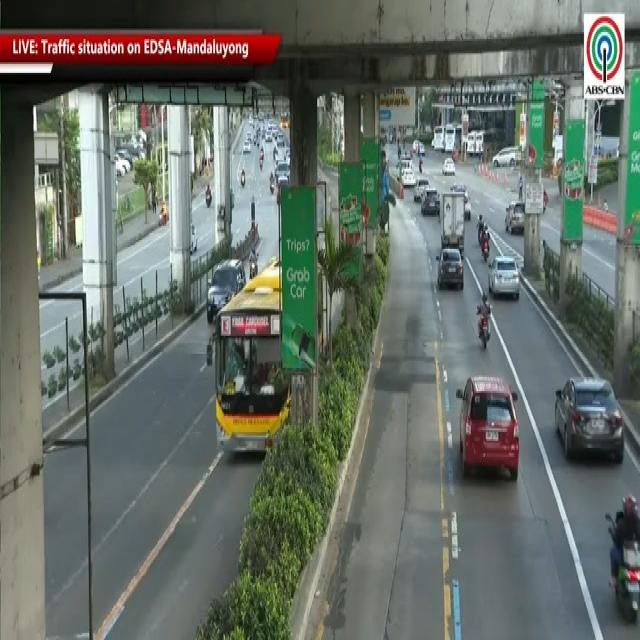car: (449, 367, 528, 490), (549, 366, 628, 466), (206, 257, 249, 318), (489, 252, 522, 309)
motorbike: (603, 476, 640, 638), (472, 295, 495, 357), (479, 221, 492, 260)
truck: (434, 182, 472, 263)
